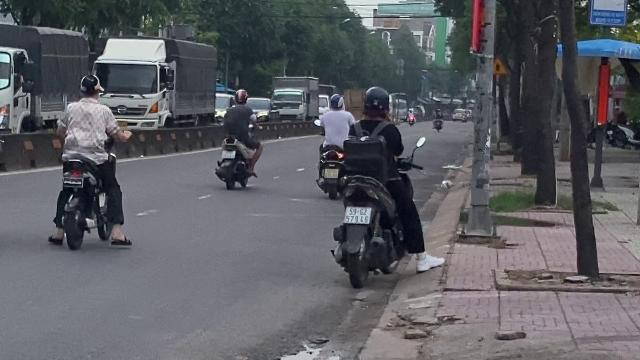helmet: (361, 86, 391, 118), (327, 93, 343, 109)
licenseplate: (344, 206, 370, 222)
motorcyclist: (331, 83, 427, 286), (48, 73, 128, 249), (312, 93, 356, 199)
nohelmet: (78, 75, 102, 99)
